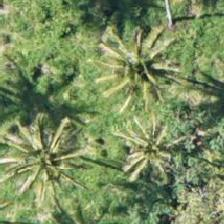coconut_tree: (113, 104, 203, 194), (91, 25, 181, 115)
